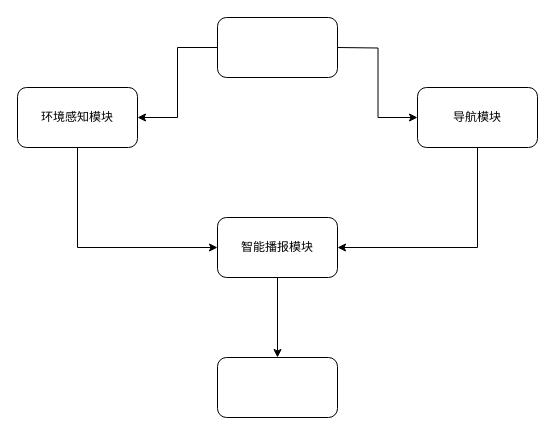
Image size: 555x435. Some labels were removed from this diagram. The shapes that lost their labels are listed below. From the top down, each one's box as (x1, y1, x2, y2) in pixels, then its label:
(216, 16, 338, 78): 开始
(216, 356, 338, 418): 结束
